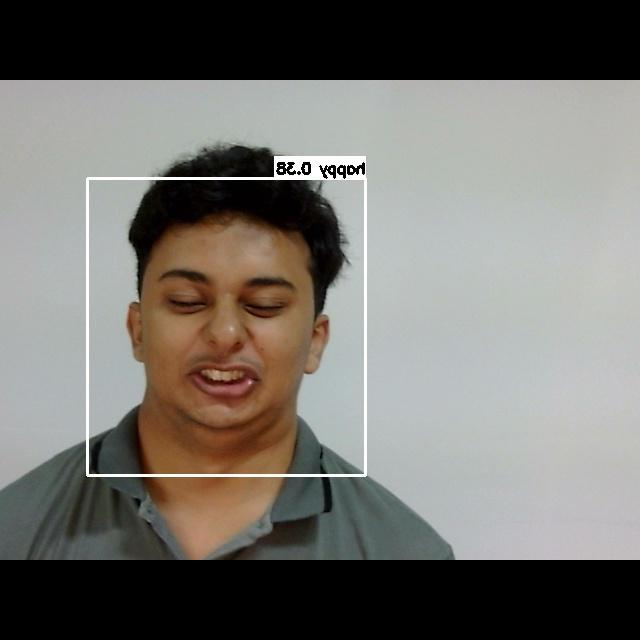Disgust: (133, 249, 306, 437)
